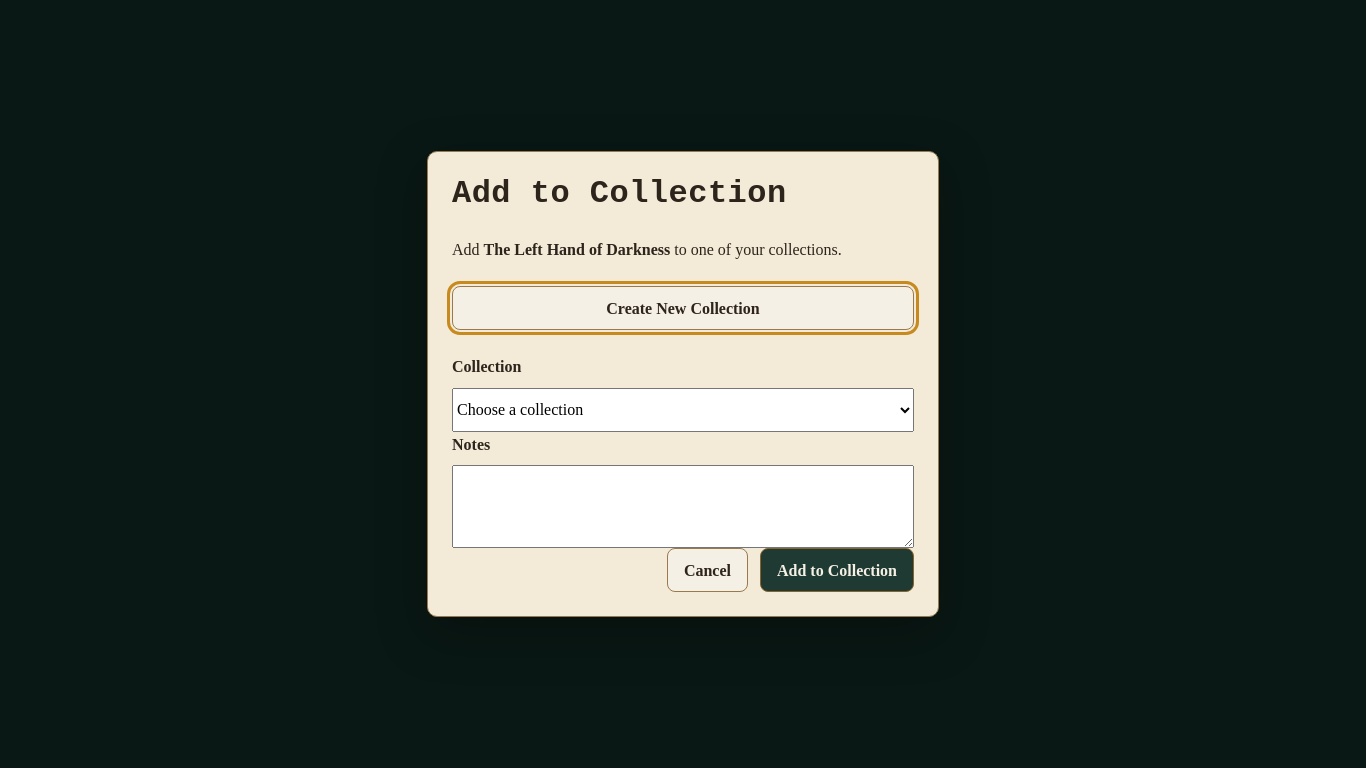
Test: AddBookToCollectionDialog › requires a collection before submitting
Click the button "Add to Collection". click: (837,570)
box: [760,548,914,592]
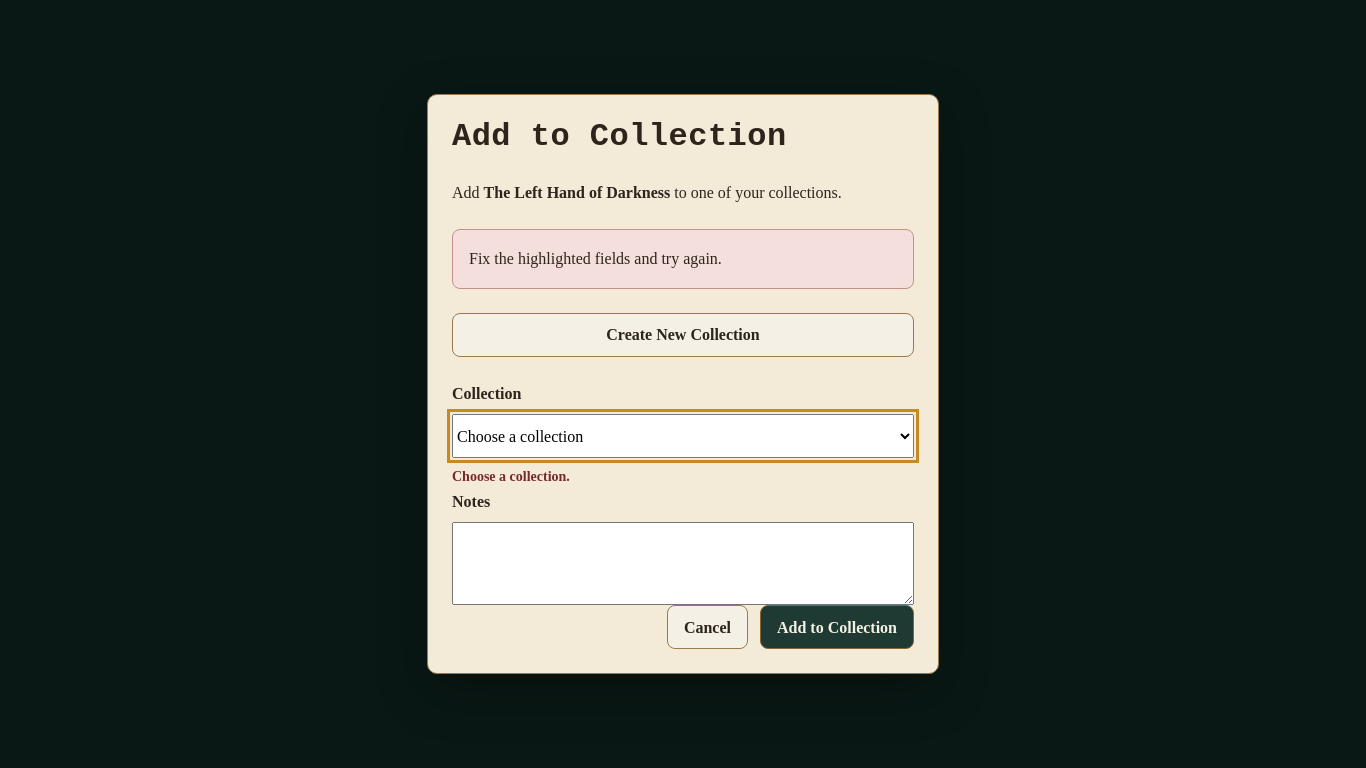
Expected: the text "Choose a collection." is shown, [452,469,570,484]
